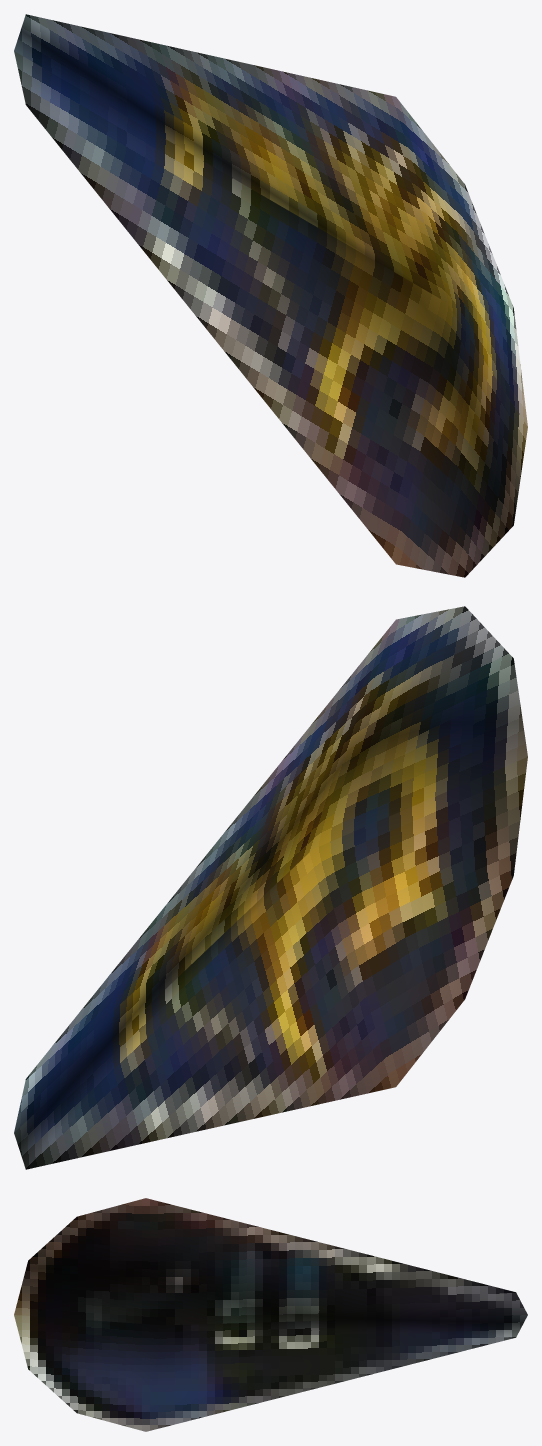
File: Shield06.glb
3 views of the same model, one above another, from view 1: azimuth 30°, elevation 25°; view 2: azimuth 150°, elevation 25°; view 3: azimuth 270°, elevation 25° (orthographic). The views are drawn at different scales.
Visible parts, largest first — view 1: model_Shield06; view 2: model_Shield06; view 3: model_Shield06.
Part boxes in pixels (left/top/right/bottom): model_Shield06: left=14, top=14, right=527, bottom=577; model_Shield06: left=14, top=606, right=527, bottom=1169; model_Shield06: left=14, top=1198, right=527, bottom=1431.
Bounding box in the file's own units: 0.0824 × 0.5529 × 1.1.
2 materials, 2 textured.
